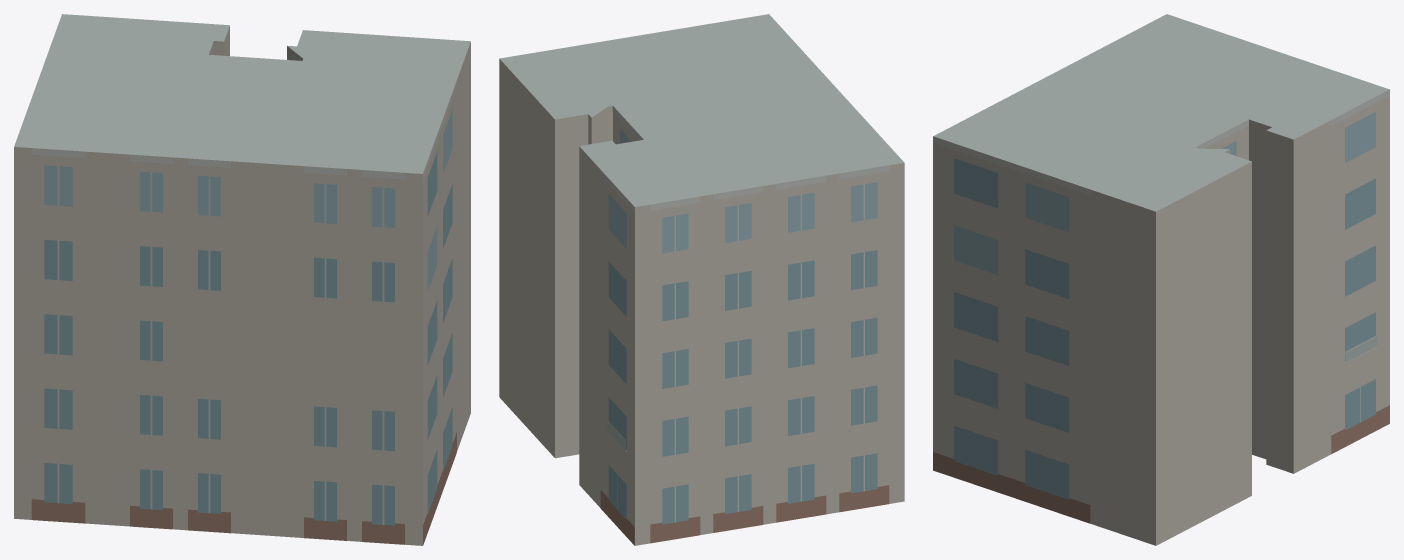
The model's file is survey-upis-32669935.glb.
The picture shows the model from 3 angles, left to right: view 1: azimuth 30°, elevation 25°; view 2: azimuth 150°, elevation 25°; view 3: azimuth 270°, elevation 25°; orthographic projection. The views are drawn at different scales.
Visible parts, largest first — view 1: survey-upis-32669935.tmp; view 2: survey-upis-32669935.tmp; view 3: survey-upis-32669935.tmp.
Boxes of the visible parts, box(x1,y1,x2,y2) form: survey-upis-32669935.tmp: box(14, 14, 470, 545); survey-upis-32669935.tmp: box(499, 14, 904, 545); survey-upis-32669935.tmp: box(933, 14, 1389, 545).
Size of the model in its own units: 17.26 by 13.6 by 16.85.
